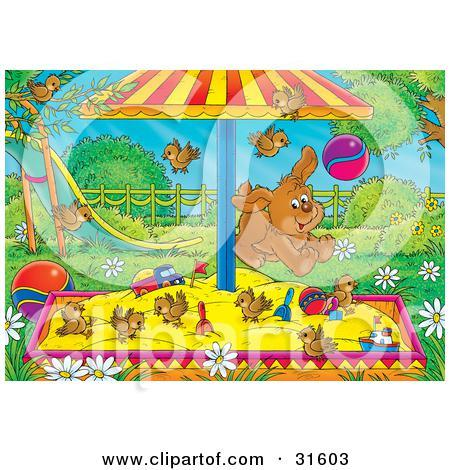bird: (46, 198, 96, 236), (56, 298, 99, 340), (265, 85, 309, 123), (245, 125, 291, 161), (151, 293, 195, 330), (228, 288, 273, 324), (295, 327, 342, 361), (159, 137, 201, 173), (321, 273, 360, 311), (111, 303, 148, 343), (21, 77, 64, 105)
boat: (354, 319, 401, 351)
car: (128, 265, 191, 295)
dog: (228, 156, 342, 274)
